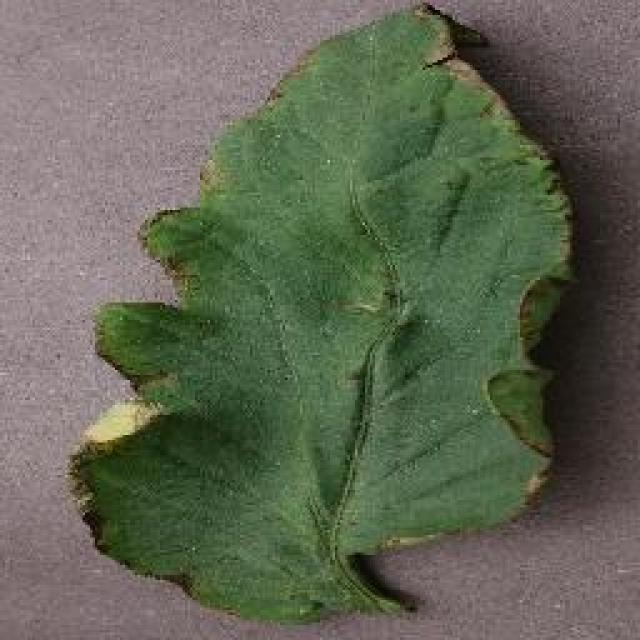Tomato bacterial spot leaf: (70, 0, 582, 620)
